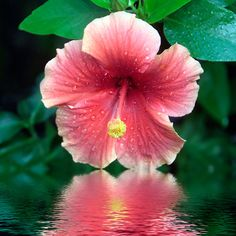Hibiscus: (39, 14, 206, 177)
